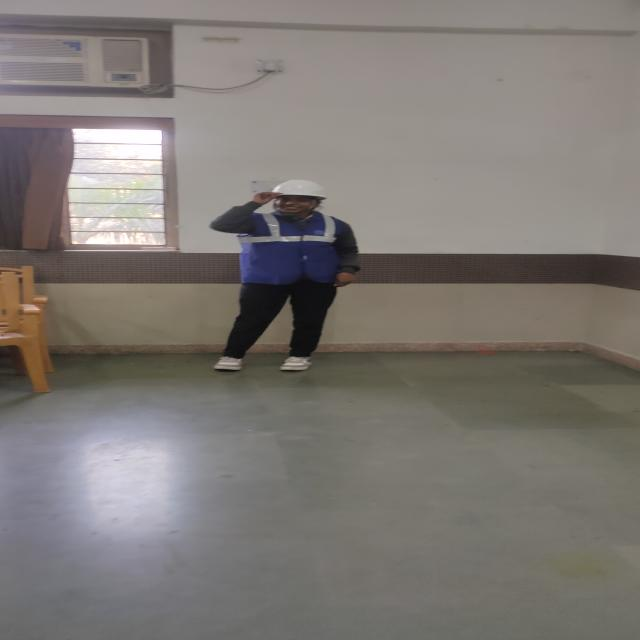safe: (215, 180, 358, 370)
